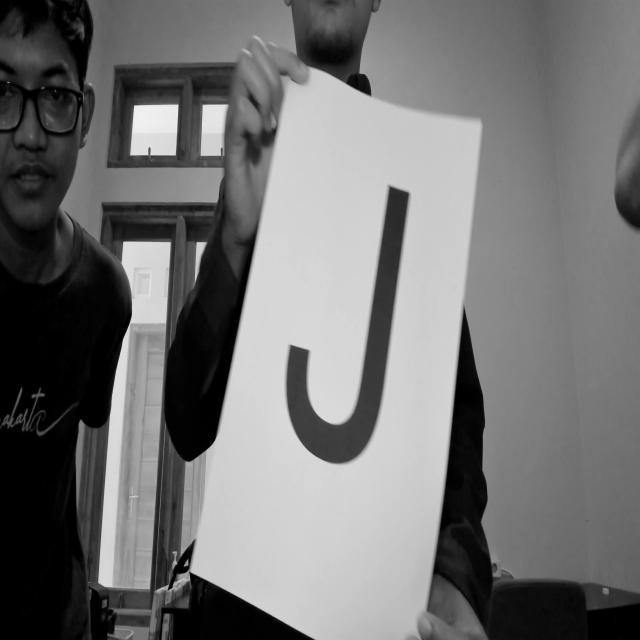j: (274, 151, 431, 513)
